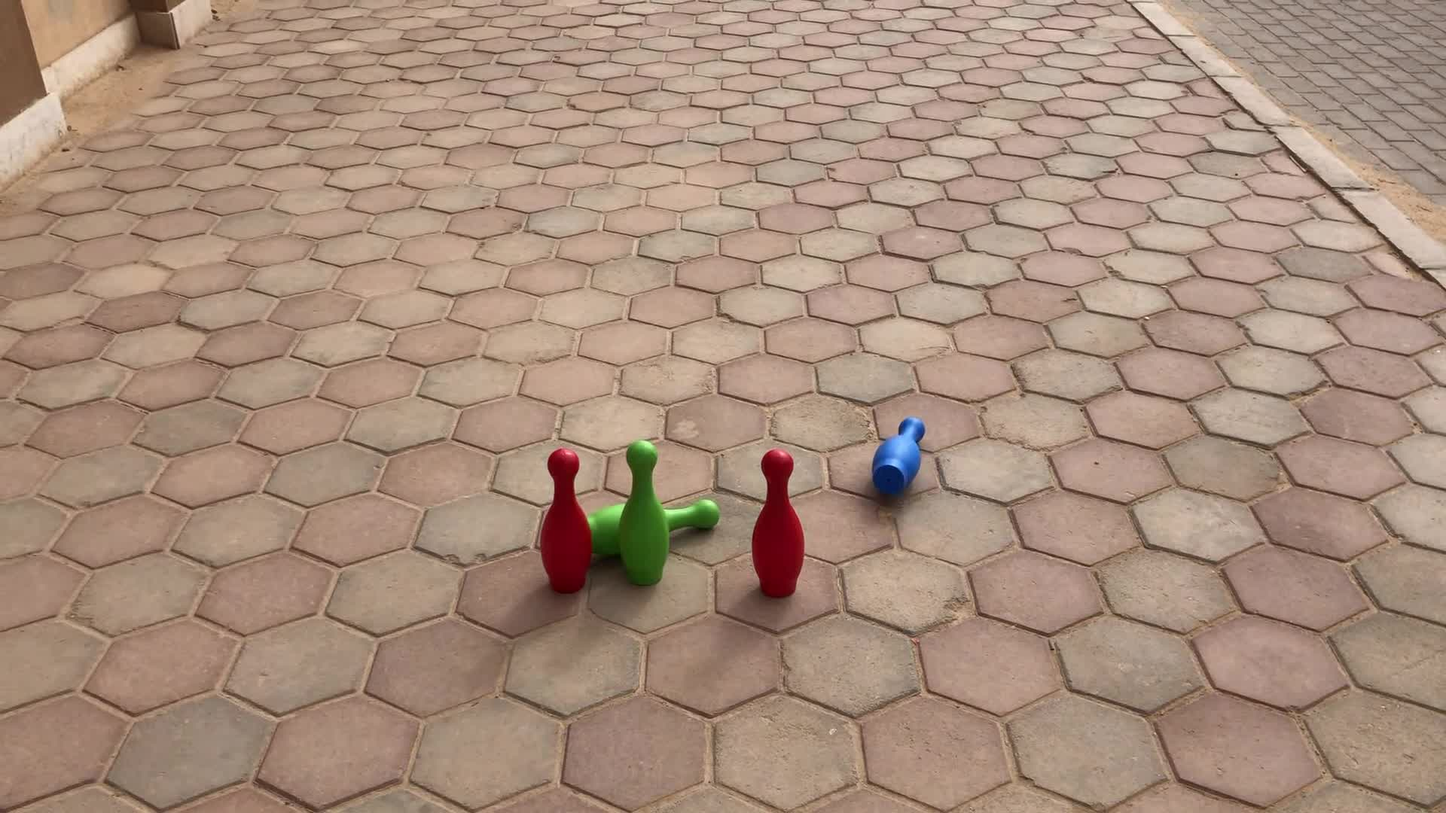pin: (752, 449, 804, 596), (620, 440, 670, 586), (540, 449, 590, 593), (874, 418, 926, 498), (588, 504, 624, 562)
